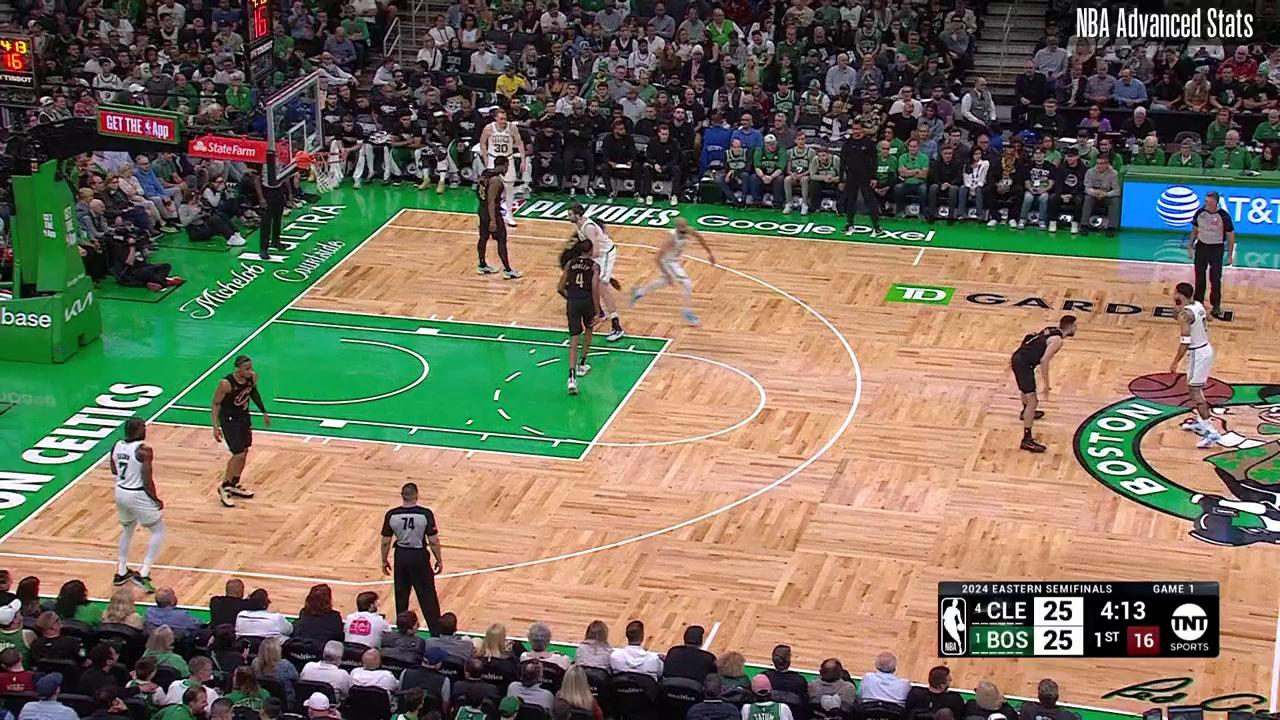3_dx: (380, 221, 391, 231)
b_dx: (400, 205, 409, 214)
free_adx: (664, 335, 677, 347)
free_asx: (573, 455, 587, 466)
free_bdx: (283, 301, 293, 313)
half_dx: (145, 418, 154, 426)
mid_dx: (910, 261, 919, 270)
mid_sx: (713, 618, 724, 627)
referee: (379, 482, 456, 634), (1187, 191, 1237, 319), (249, 153, 293, 259)
team: (108, 413, 170, 593), (1167, 282, 1223, 449), (564, 200, 624, 341), (636, 217, 714, 324), (483, 109, 527, 226)
team1: (207, 353, 274, 507), (1011, 313, 1079, 460), (552, 212, 624, 299), (557, 242, 595, 394), (479, 157, 522, 279)
timer: (1093, 591, 1151, 630)
